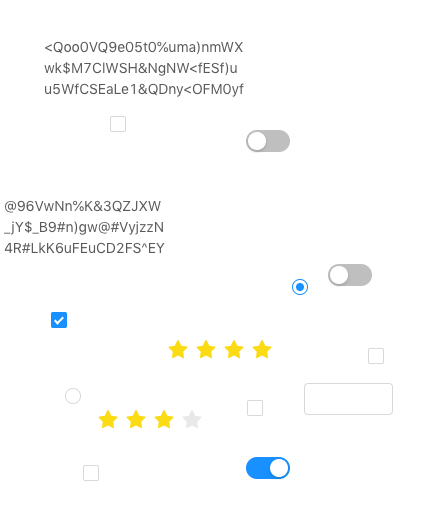Checkbox: (368, 345, 384, 366), (51, 309, 67, 330), (110, 113, 126, 134), (83, 462, 99, 483), (247, 397, 263, 418)
Input: (304, 383, 393, 415)
Radio: (65, 385, 81, 405), (292, 276, 308, 296)
Rate: (98, 403, 218, 435), (168, 333, 288, 365)
Switch: (246, 129, 290, 153), (328, 263, 372, 287), (246, 456, 290, 480)
Text: (44, 36, 244, 99), (4, 195, 166, 254)
